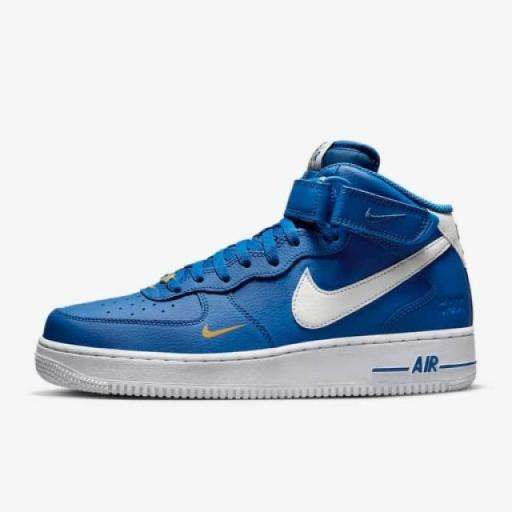Nike: (196, 318, 253, 340)
